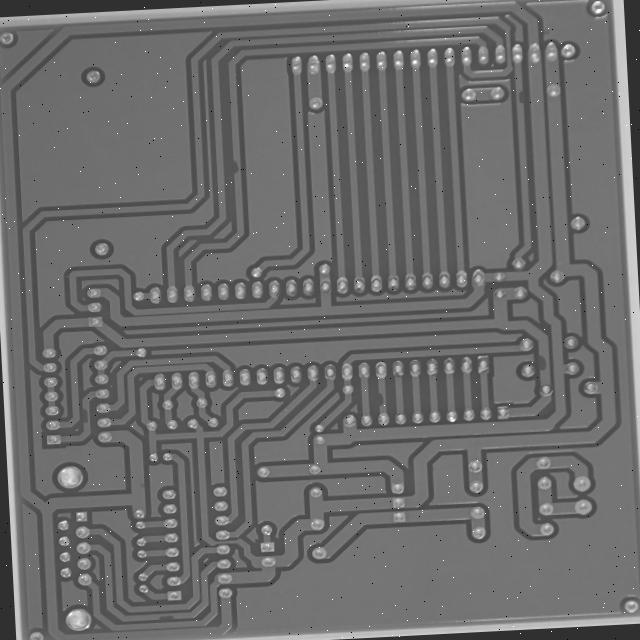mouse_bite: (533, 351, 553, 381), (220, 155, 238, 179), (370, 391, 385, 416), (67, 410, 83, 432), (513, 87, 527, 108), (147, 619, 169, 632)
